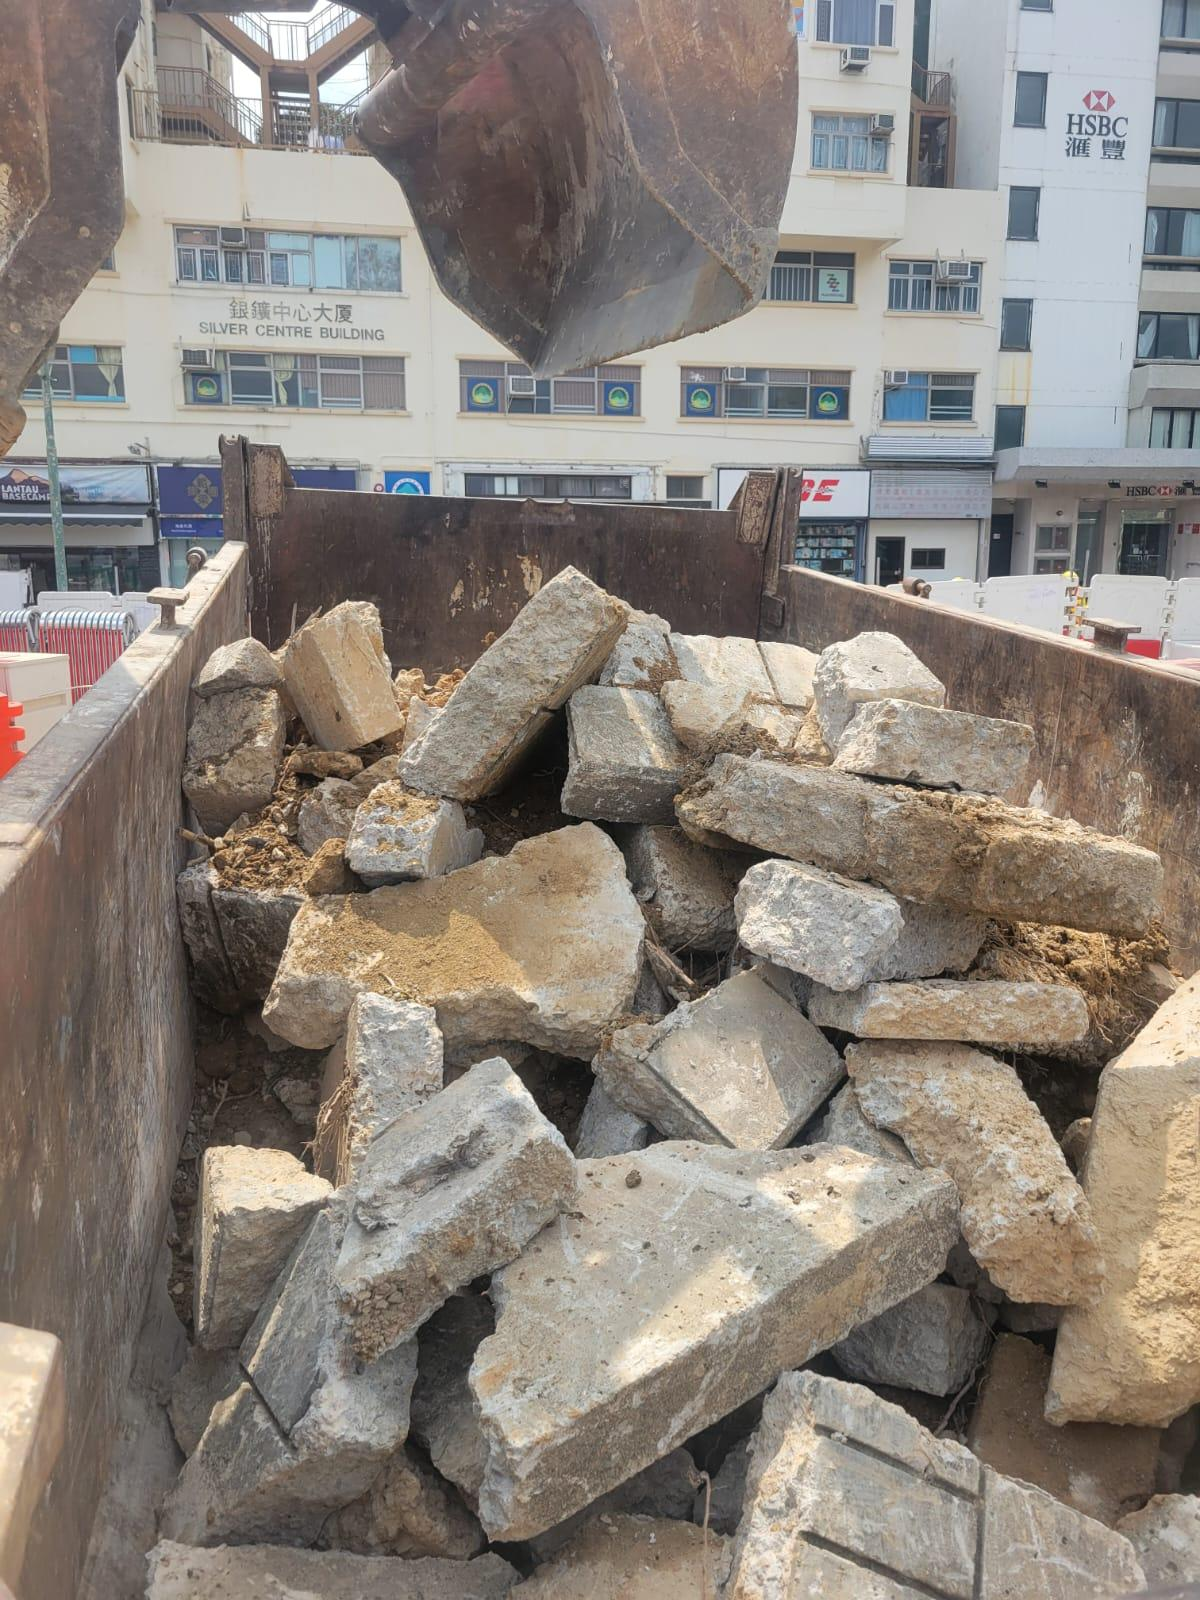dry: (212, 625, 1175, 1590)
